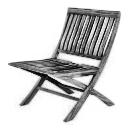chair_success: (3, 3, 124, 123)
